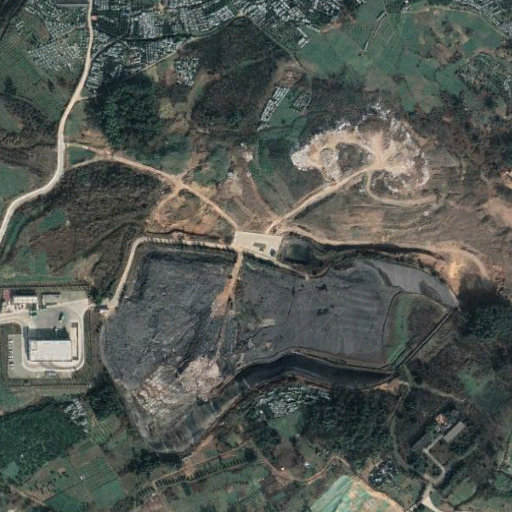lf: (99, 236, 462, 457)
